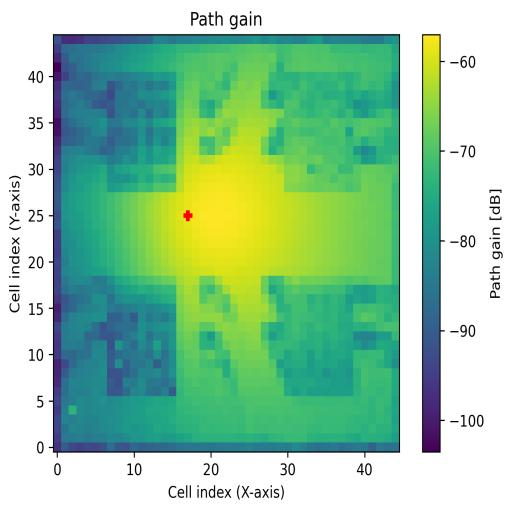Concrete: (283, 72, 362, 194)
Glass: (107, 73, 176, 191)
Metal: (276, 284, 354, 396)
Wood: (107, 278, 177, 398)
